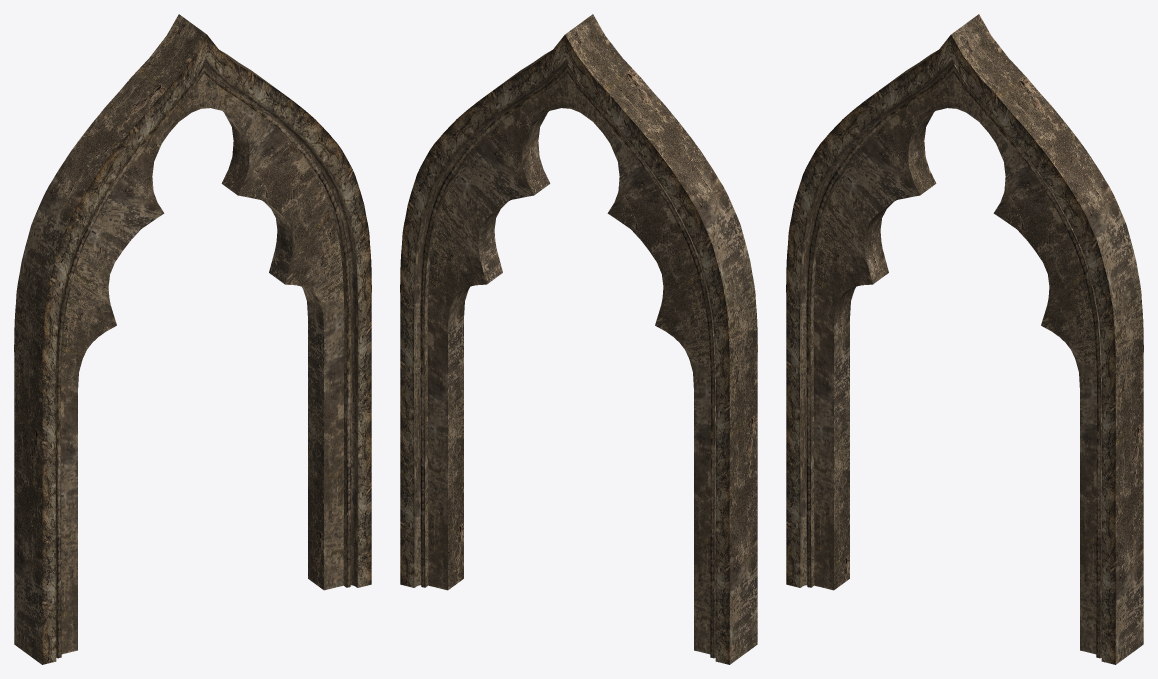
The model's file is materials_5_gate_8.fbx.
3 views of the same model, side by side, from view 1: azimuth 30°, elevation 25°; view 2: azimuth 150°, elevation 25°; view 3: azimuth 330°, elevation 25° (orthographic).
Parts seen in each view (by area): view 1: materials_5_gate_8; view 2: materials_5_gate_8; view 3: materials_5_gate_8.
Boxes of the visible parts, bbox=[...] form: materials_5_gate_8: bbox=[14, 14, 371, 664]; materials_5_gate_8: bbox=[400, 14, 757, 664]; materials_5_gate_8: bbox=[786, 14, 1143, 664].
Size of the model in its own units: 150 by 256 by 22.07.
